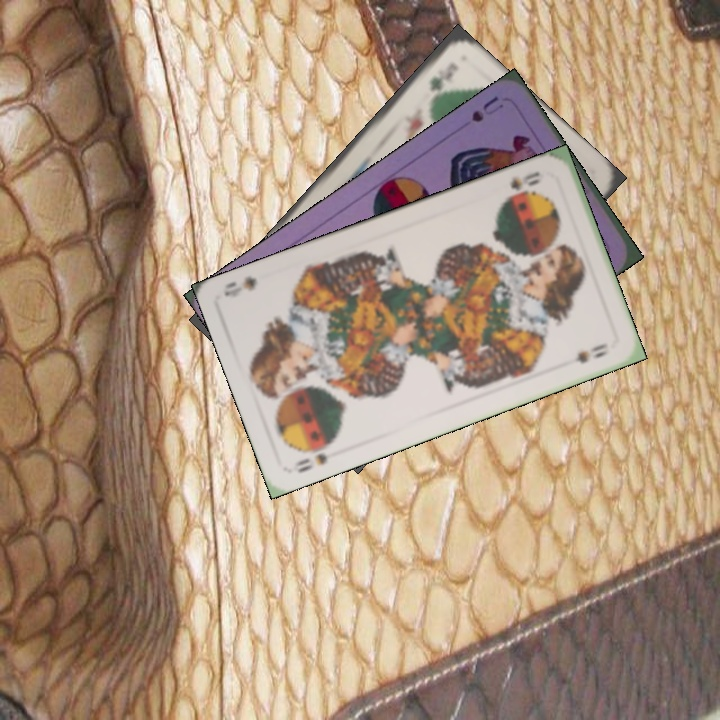GK: (425, 67, 457, 94)
SO: (287, 449, 330, 476), (506, 167, 542, 193)
SU: (465, 91, 507, 128)
